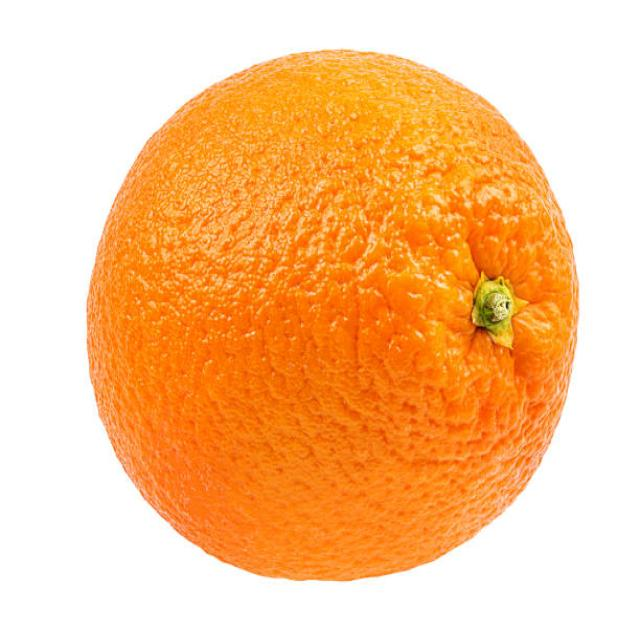Ripe: (84, 39, 584, 588)
